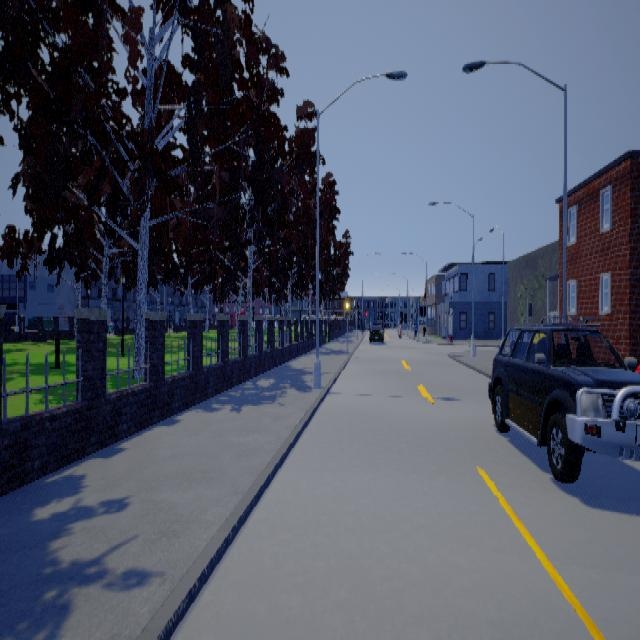vehicle: (489, 315, 640, 482), (370, 320, 387, 344)
yellow_light: (346, 291, 350, 317)
